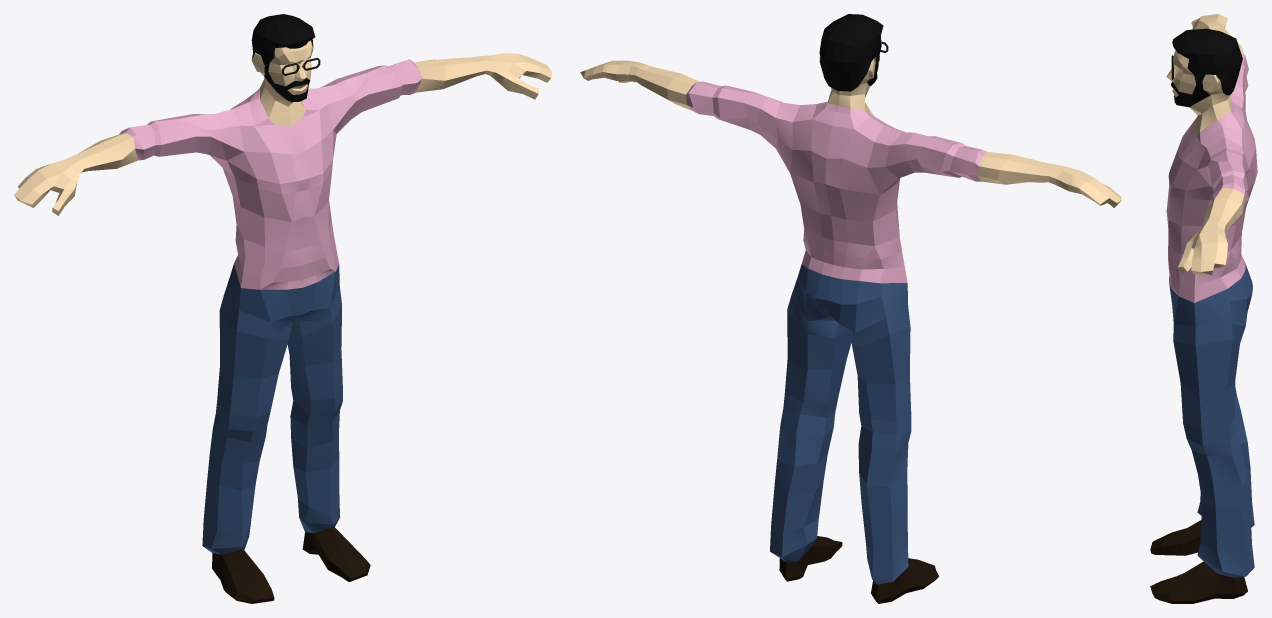
File: MisterD.fbx
3 views of the same model, side by side, from view 1: azimuth 30°, elevation 25°; view 2: azimuth 150°, elevation 25°; view 3: azimuth 270°, elevation 25° (orthographic). The views are drawn at different scales.
Parts seen in each view (by area): view 1: lpMaleG; view 2: lpMaleG; view 3: lpMaleG.
Part boxes in pixels (<box>): lpMaleG: <box>14,14,551,603</box>; lpMaleG: <box>580,14,1121,603</box>; lpMaleG: <box>1150,14,1257,603</box>.
Size of the model in its own units: 183 by 182 by 32.64.
